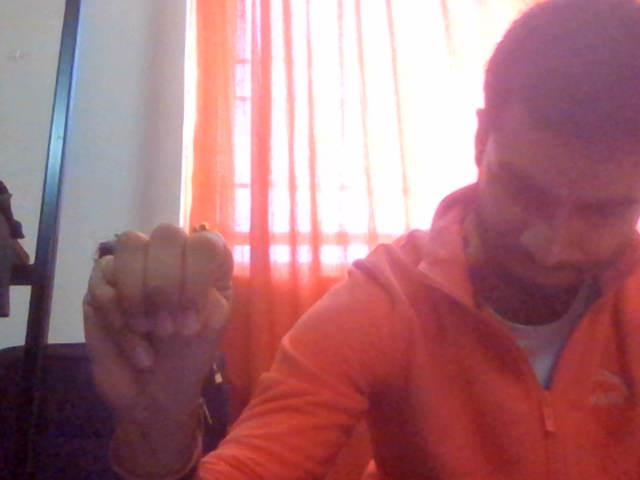M: (59, 181, 267, 478)
